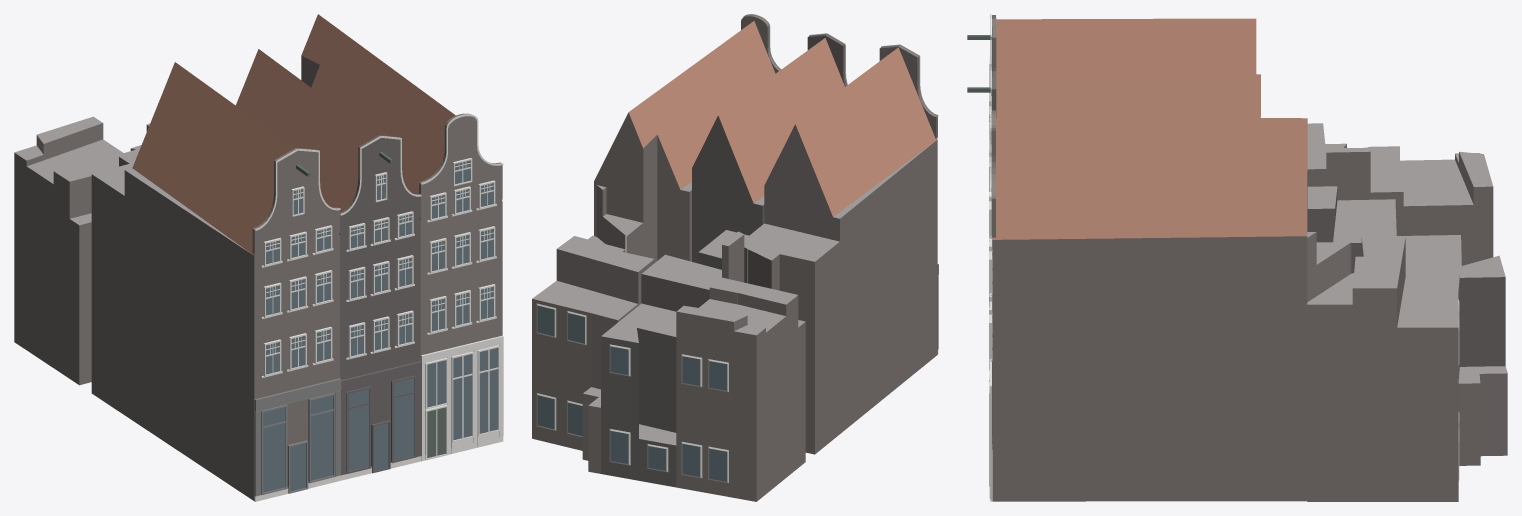
File: chunk-face-kloveniersburgwal-5-21-h1.glb
3 views of the same model, side by side, from view 1: azimuth 30°, elevation 25°; view 2: azimuth 150°, elevation 25°; view 3: azimuth 270°, elevation 25° (orthographic). The views are drawn at different scales.
Parts seen in each view (by area): view 1: face-kloveniersburgwal-5-21-h1; view 2: face-kloveniersburgwal-5-21-h1; view 3: face-kloveniersburgwal-5-21-h1.
Part boxes in pixels (x1,y1,x2,y2): face-kloveniersburgwal-5-21-h1: (14, 14, 503, 501); face-kloveniersburgwal-5-21-h1: (532, 14, 938, 501); face-kloveniersburgwal-5-21-h1: (967, 14, 1507, 501).
Size of the model in its own units: 14.56 by 17.92 by 23.46.
